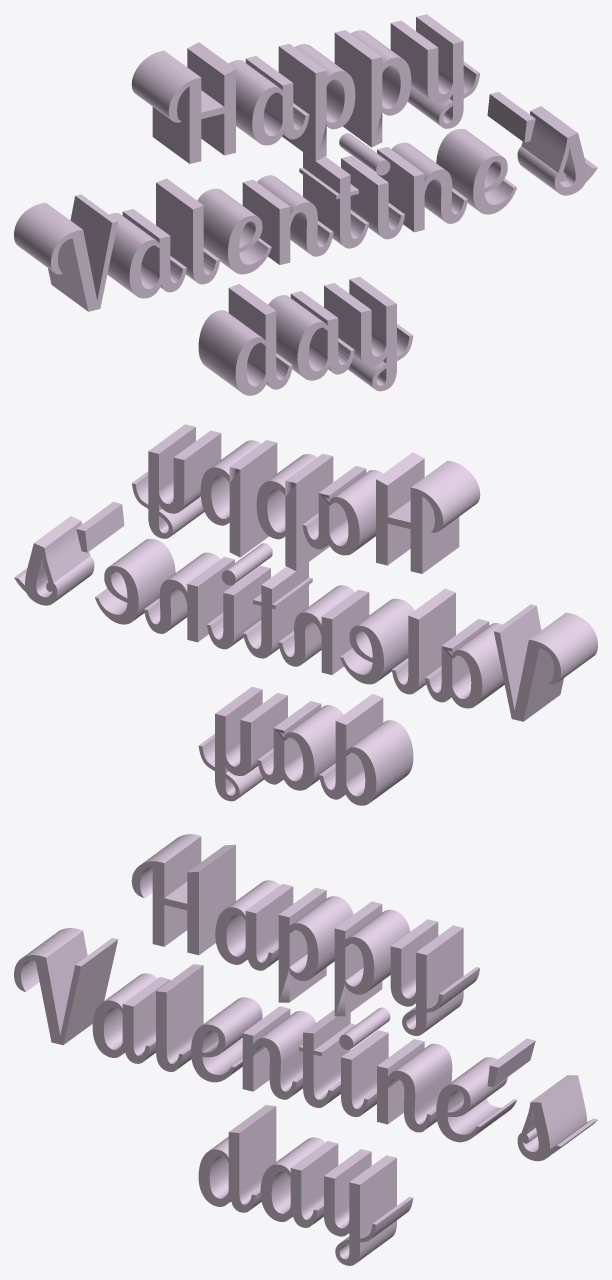
Rendered from valentines-text.glb.
3 renders of one model, top to bottom at view 1: azimuth 30°, elevation 25°; view 2: azimuth 150°, elevation 25°; view 3: azimuth 330°, elevation 25°, orthographic.
Visible parts, largest first — view 1: 014_3D_Text_-_H, 003_3D_Text_-_V, 000_3D_Text_-_d, 018_3D_Text_-_y, 002_3D_Text_-_y, 017_3D_Text_-_p, 016_3D_Text_-_p, 001_3D_Text_-_a, 007_3D_Text_-_n, 010_3D_Text_-_n, 004_3D_Text_-_a, 015_3D_Text_-_a (+7 smaller); view 2: 014_3D_Text_-_H, 003_3D_Text_-_V, 000_3D_Text_-_d, 018_3D_Text_-_y, 002_3D_Text_-_y, 017_3D_Text_-_p, 016_3D_Text_-_p, 001_3D_Text_-_a, 007_3D_Text_-_n, 010_3D_Text_-_n, 004_3D_Text_-_a, 015_3D_Text_-_a (+7 smaller); view 3: 014_3D_Text_-_H, 003_3D_Text_-_V, 018_3D_Text_-_y, 002_3D_Text_-_y, 017_3D_Text_-_p, 000_3D_Text_-_d, 016_3D_Text_-_p, 010_3D_Text_-_n, 007_3D_Text_-_n, 001_3D_Text_-_a, 015_3D_Text_-_a, 004_3D_Text_-_a (+7 smaller).
Boxes of the visible parts, x1=… form: 014_3D_Text_-_H: x1=131, y1=42, x2=235, y2=163; 003_3D_Text_-_V: x1=14, y1=194, x2=118, y2=311; 000_3D_Text_-_d: x1=198, y1=284, x2=292, y2=395; 018_3D_Text_-_y: x1=390, y1=14, x2=479, y2=128; 002_3D_Text_-_y: x1=324, y1=276, x2=413, y2=391; 017_3D_Text_-_p: x1=334, y1=30, x2=411, y2=147; 016_3D_Text_-_p: x1=278, y1=43, x2=355, y2=160; 001_3D_Text_-_a: x1=268, y1=291, x2=354, y2=380; 007_3D_Text_-_n: x1=242, y1=175, x2=333, y2=264; 010_3D_Text_-_n: x1=377, y1=142, x2=467, y2=232; 004_3D_Text_-_a: x1=107, y1=209, x2=186, y2=298; 015_3D_Text_-_a: x1=228, y1=56, x2=309, y2=145; 014_3D_Text_-_H: x1=376, y1=452, x2=480, y2=573; 003_3D_Text_-_V: x1=493, y1=604, x2=597, y2=721; 000_3D_Text_-_d: x1=319, y1=694, x2=413, y2=805; 018_3D_Text_-_y: x1=132, y1=424, x2=221, y2=538; 002_3D_Text_-_y: x1=198, y1=686, x2=287, y2=801; 017_3D_Text_-_p: x1=200, y1=440, x2=277, y2=557; 016_3D_Text_-_p: x1=256, y1=453, x2=333, y2=570; 001_3D_Text_-_a: x1=257, y1=701, x2=343, y2=790; 007_3D_Text_-_n: x1=278, y1=585, x2=369, y2=674; 010_3D_Text_-_n: x1=144, y1=552, x2=234, y2=642; 004_3D_Text_-_a: x1=425, y1=619, x2=504, y2=708; 015_3D_Text_-_a: x1=302, y1=466, x2=383, y2=555; 014_3D_Text_-_H: x1=131, y1=834, x2=235, y2=955; 003_3D_Text_-_V: x1=14, y1=928, x2=118, y2=1045; 018_3D_Text_-_y: x1=390, y1=919, x2=479, y2=1035; 002_3D_Text_-_y: x1=324, y1=1149, x2=413, y2=1265; 017_3D_Text_-_p: x1=334, y1=901, x2=410, y2=1016; 000_3D_Text_-_d: x1=198, y1=1105, x2=276, y2=1212; 016_3D_Text_-_p: x1=278, y1=888, x2=353, y2=1002; 010_3D_Text_-_n: x1=377, y1=1039, x2=452, y2=1132; 007_3D_Text_-_n: x1=242, y1=1006, x2=315, y2=1099; 001_3D_Text_-_a: x1=260, y1=1137, x2=338, y2=1227; 015_3D_Text_-_a: x1=215, y1=880, x2=293, y2=970; 004_3D_Text_-_a: x1=92, y1=973, x2=170, y2=1063.
Size of the model in its own units: 256 by 160 by 30.
